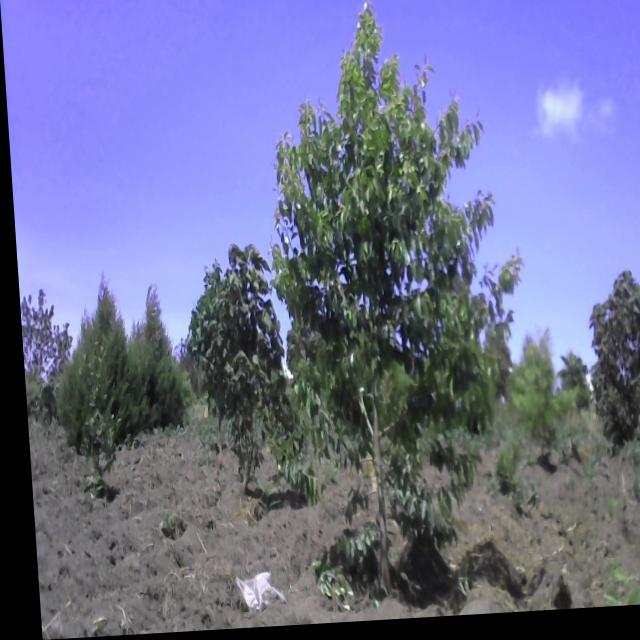Lemon Myrtle: (266, 0, 539, 613)
Vitex keniensis: (178, 249, 285, 478), (573, 272, 640, 458)
cedrus: (57, 277, 133, 433), (123, 276, 179, 434)
